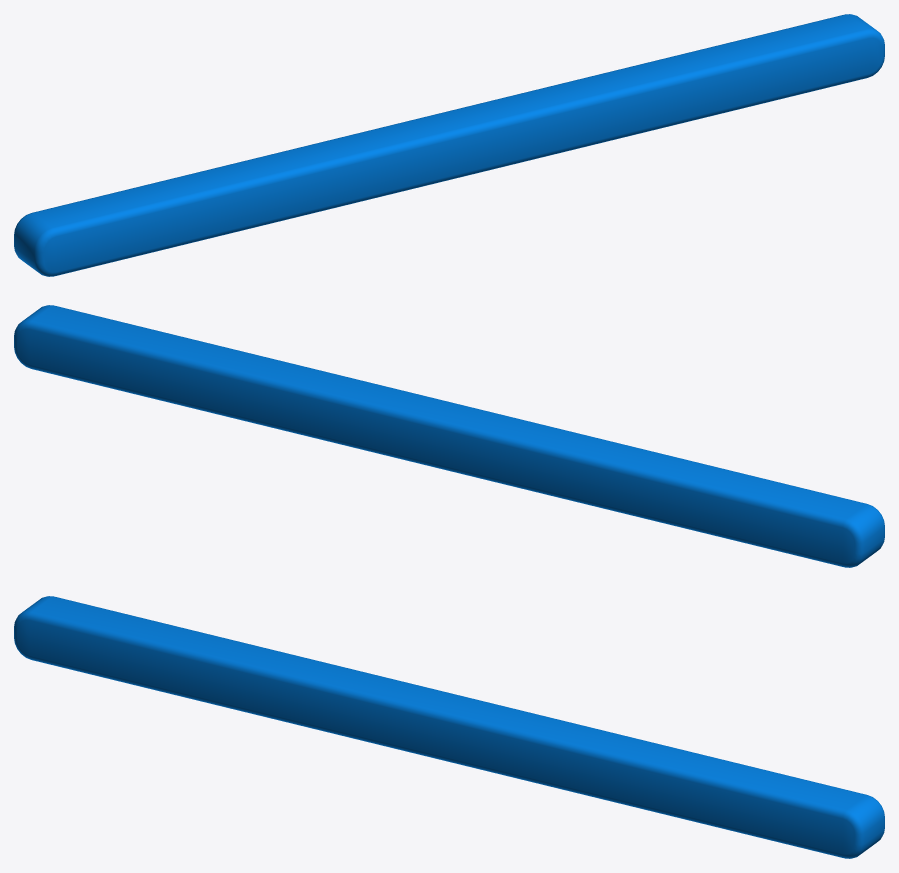
Rendered from Progressbar.glb.
3 views of the same model, one above another, from view 1: azimuth 30°, elevation 25°; view 2: azimuth 150°, elevation 25°; view 3: azimuth 330°, elevation 25° (orthographic).
Parts seen in each view (by area): view 1: progressbar; view 2: progressbar; view 3: progressbar.
Part boxes in pixels (left/top/right/bottom): progressbar: left=14, top=14, right=884, bottom=276; progressbar: left=14, top=305, right=884, bottom=567; progressbar: left=14, top=596, right=884, bottom=858.
Bounding box in the file's own units: 2.24 × 0.122 × 0.122.
